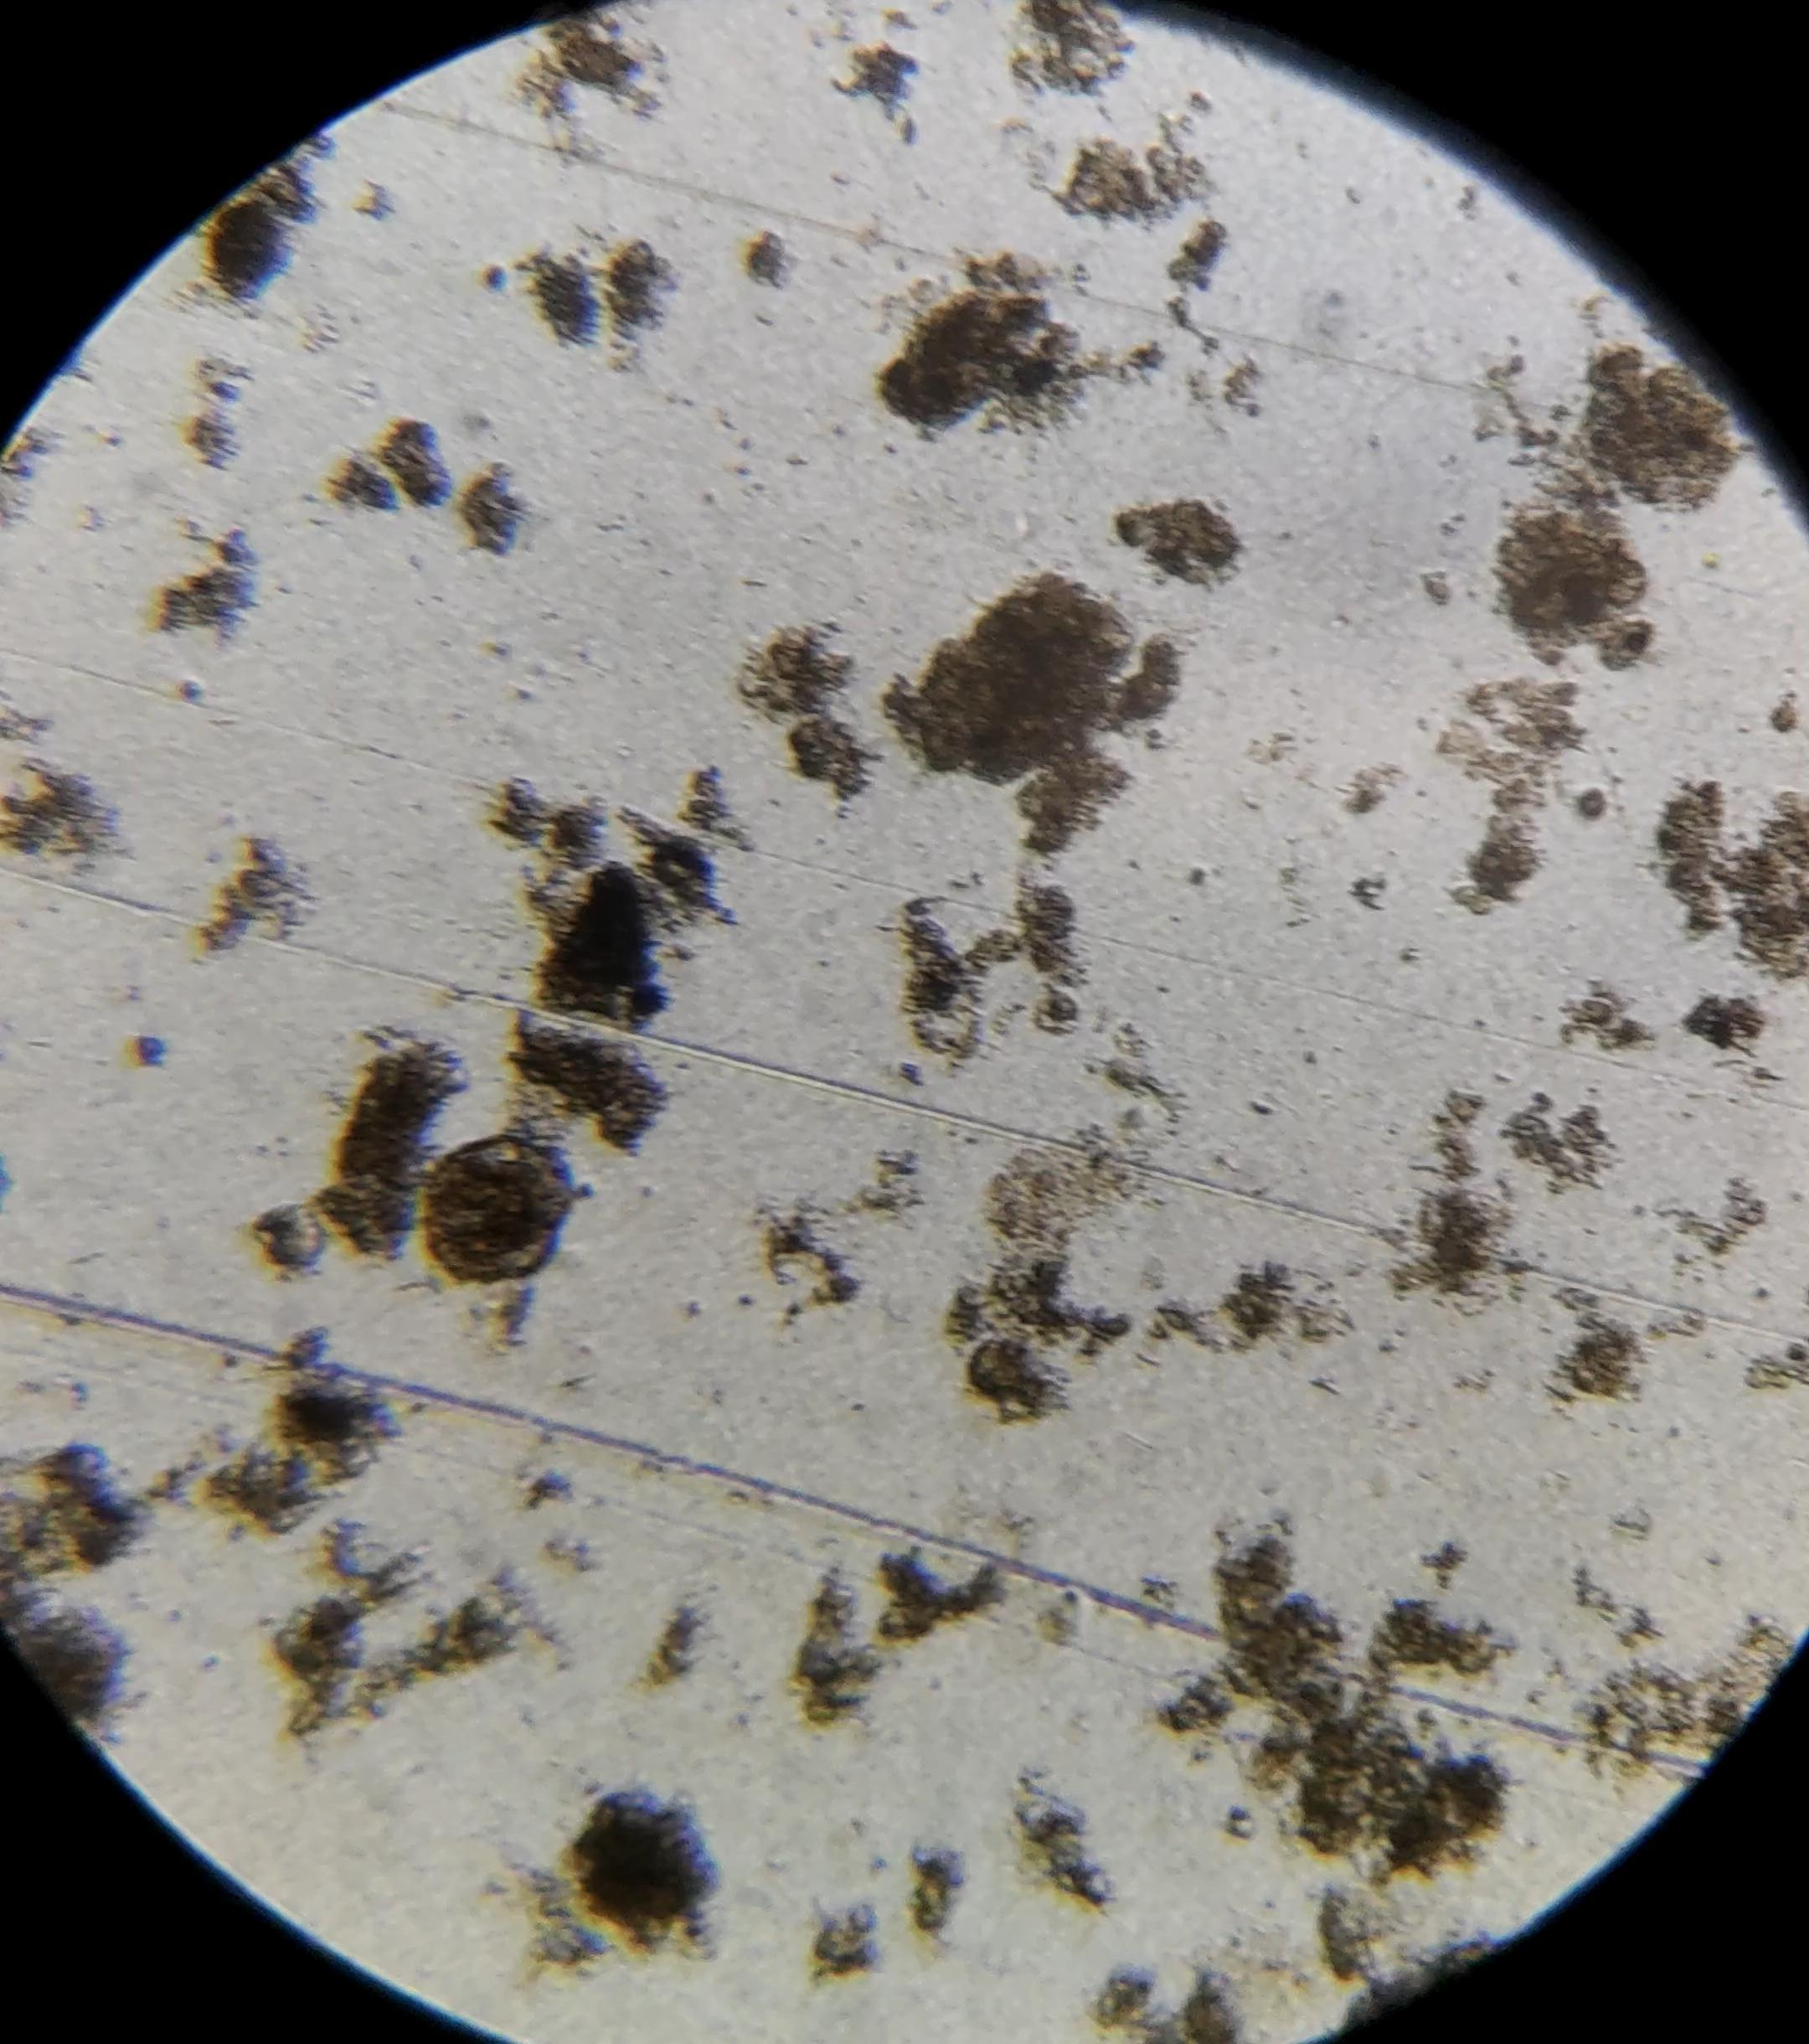Arcella: (430, 1136, 567, 1282)
